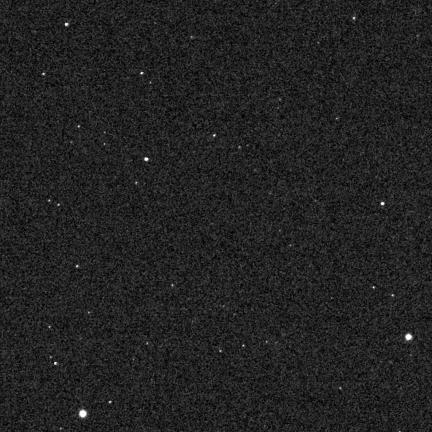blob: (79, 410, 87, 418), (405, 334, 412, 340), (144, 157, 148, 161), (213, 134, 217, 138), (78, 125, 81, 129), (42, 73, 46, 76), (219, 350, 223, 353), (109, 401, 113, 404), (76, 265, 79, 269), (57, 204, 61, 207), (141, 72, 144, 76), (65, 23, 69, 26), (54, 362, 58, 365), (381, 202, 384, 205)
